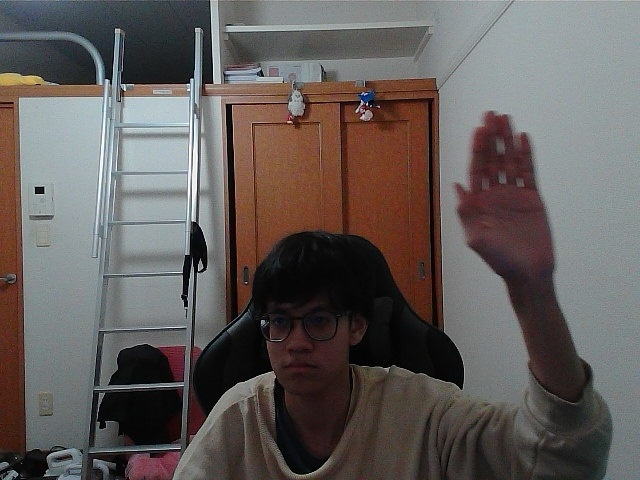open_palm: (458, 120, 533, 275)
